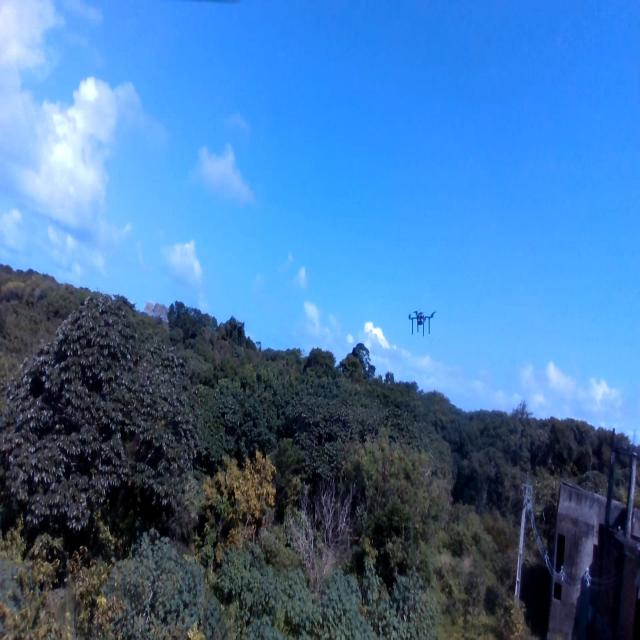-uav-: (404, 299, 438, 342)
